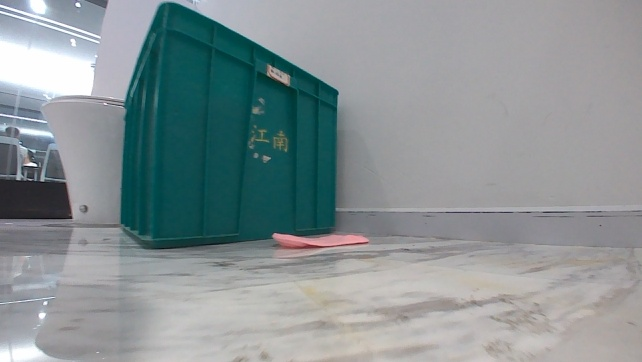socks: (269, 229, 370, 250)
toilet: (40, 93, 128, 227)
